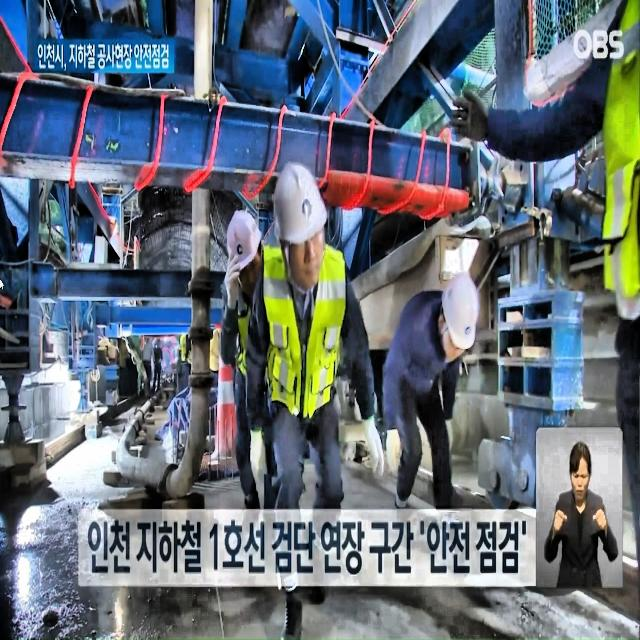safety_helmet: (271, 158, 331, 248), (443, 271, 480, 354), (223, 205, 261, 278)
safety_jacket: (255, 246, 350, 418), (602, 9, 640, 323), (227, 288, 257, 386)
